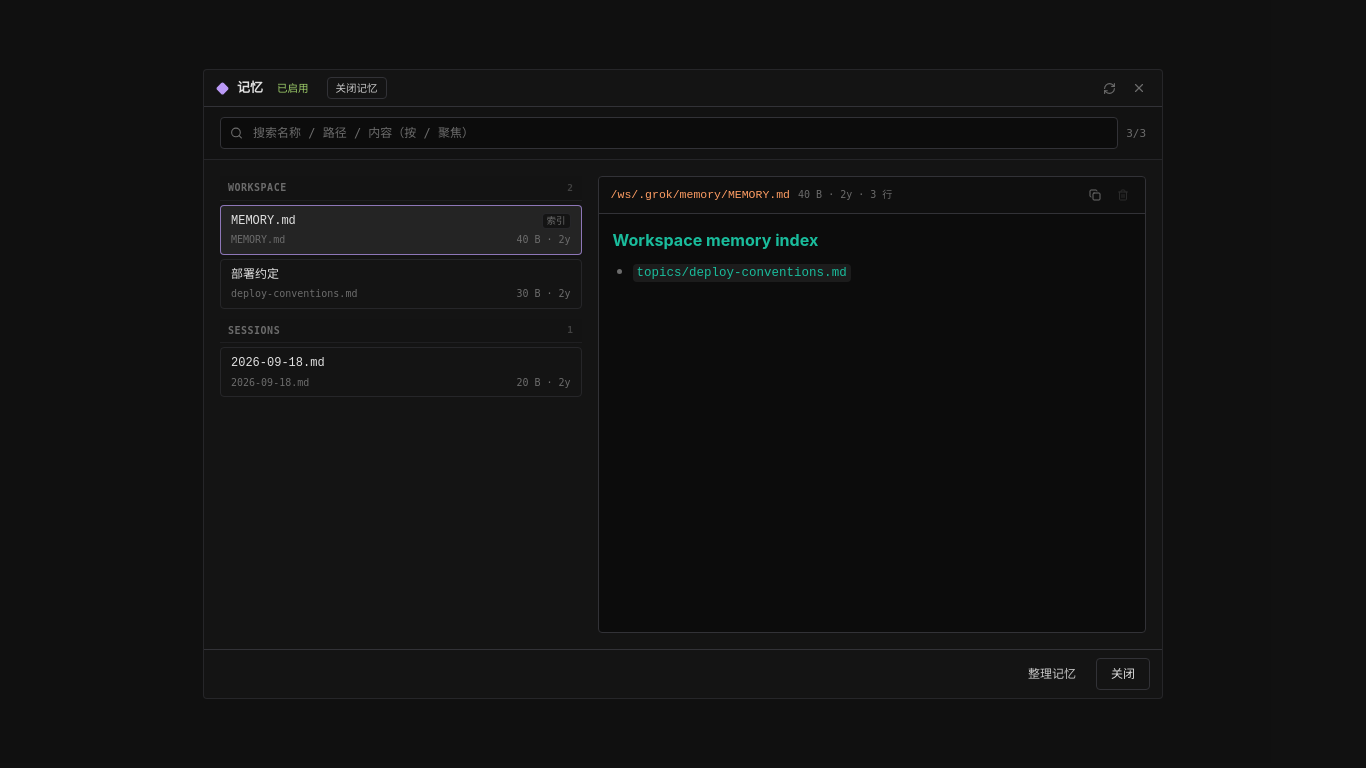
Scenario: MemoryModal › 搜索：按标签/路径过滤，命中数为 0 时提示
The image size is (1366, 768).
Check: the text "部署约定" is shown, box top-left (231, 268), bottom-right (279, 282)
Type "2026-09-18" into the field named "搜索记忆文件" at (669, 133), box top-left (220, 117), bottom-right (1118, 149)
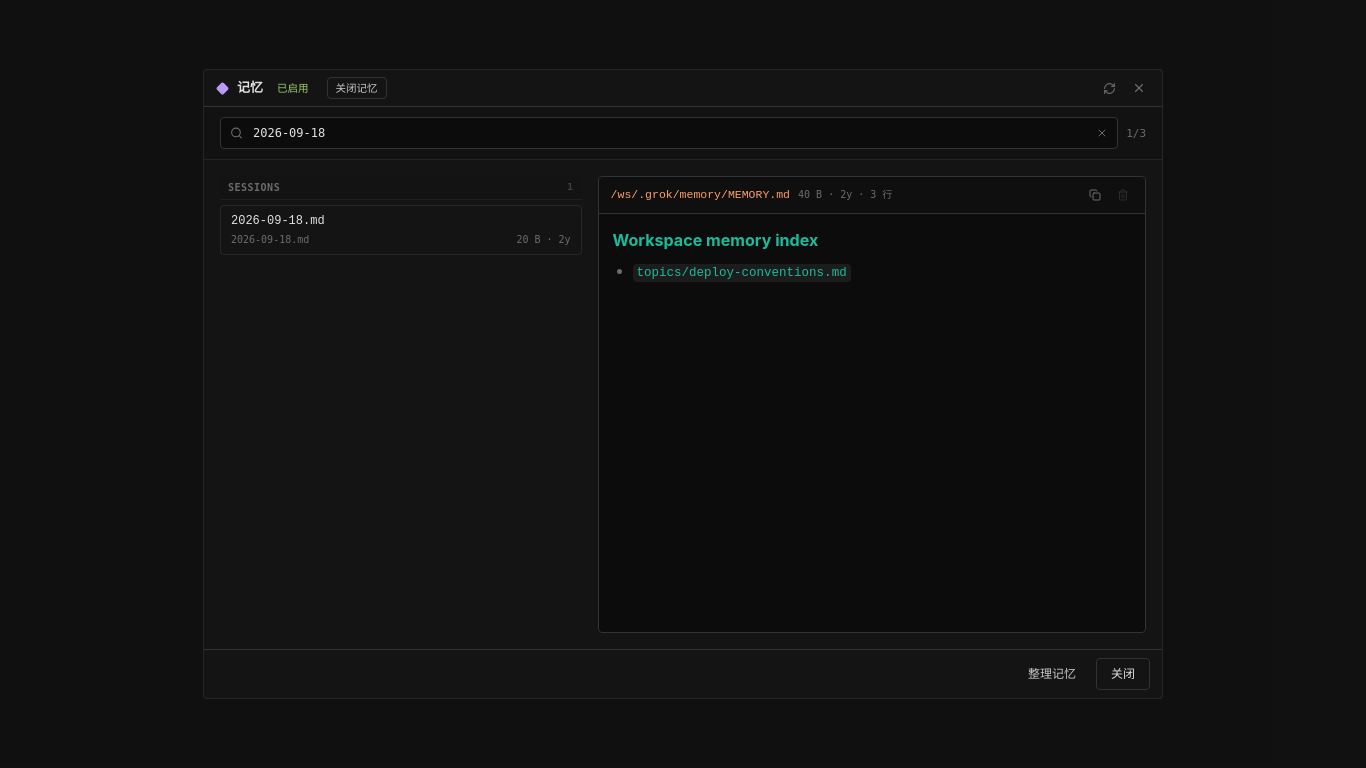
Check: the 1st text "2026-09-18.md" is shown, box top-left (231, 214), bottom-right (325, 228)
Check: the button "部署约定" is gone
Replace the text in the field named "搜索记忆文件" with "nothing-matches" at (669, 133), box top-left (220, 117), bottom-right (1118, 149)
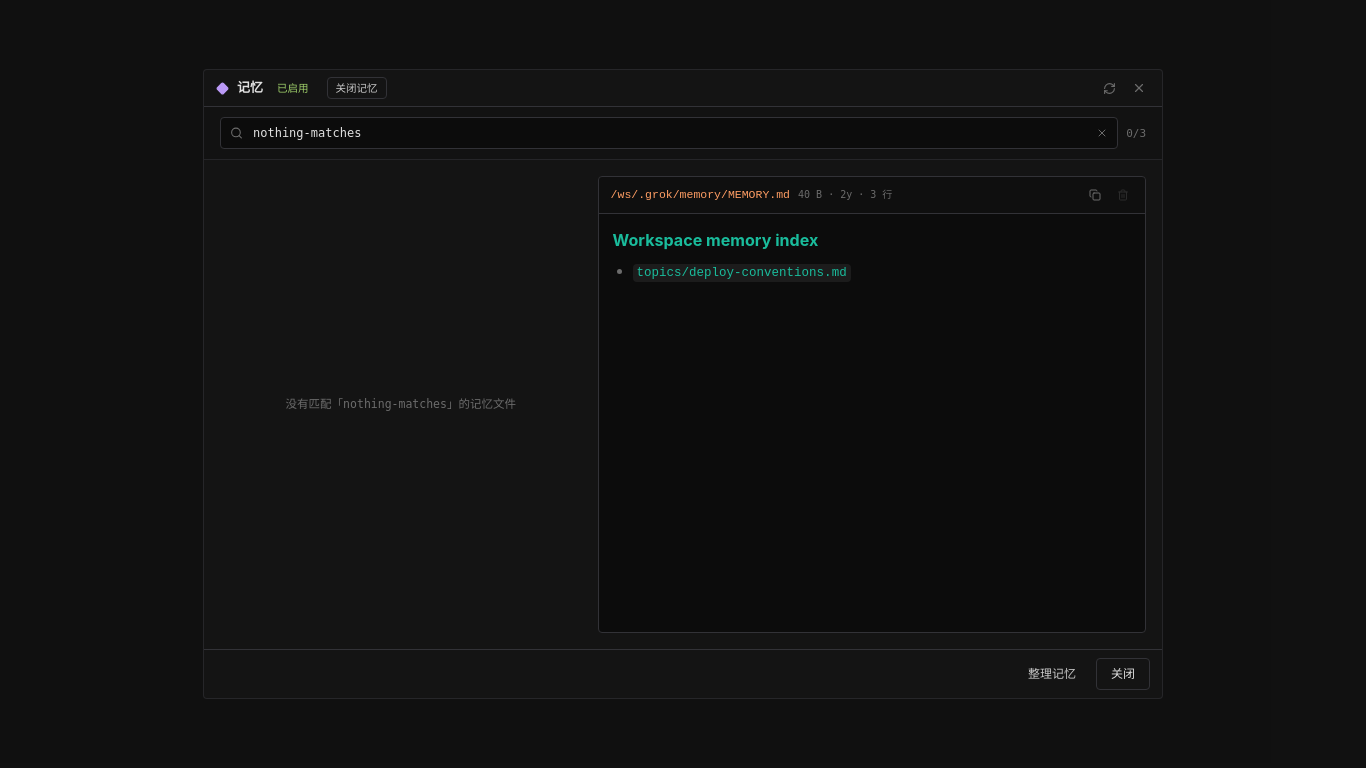
Check: the text "没有匹配" is shown, box top-left (286, 397), bottom-right (343, 411)
Check: the text "0/3" is shown, box top-left (1126, 125), bottom-right (1146, 142)
